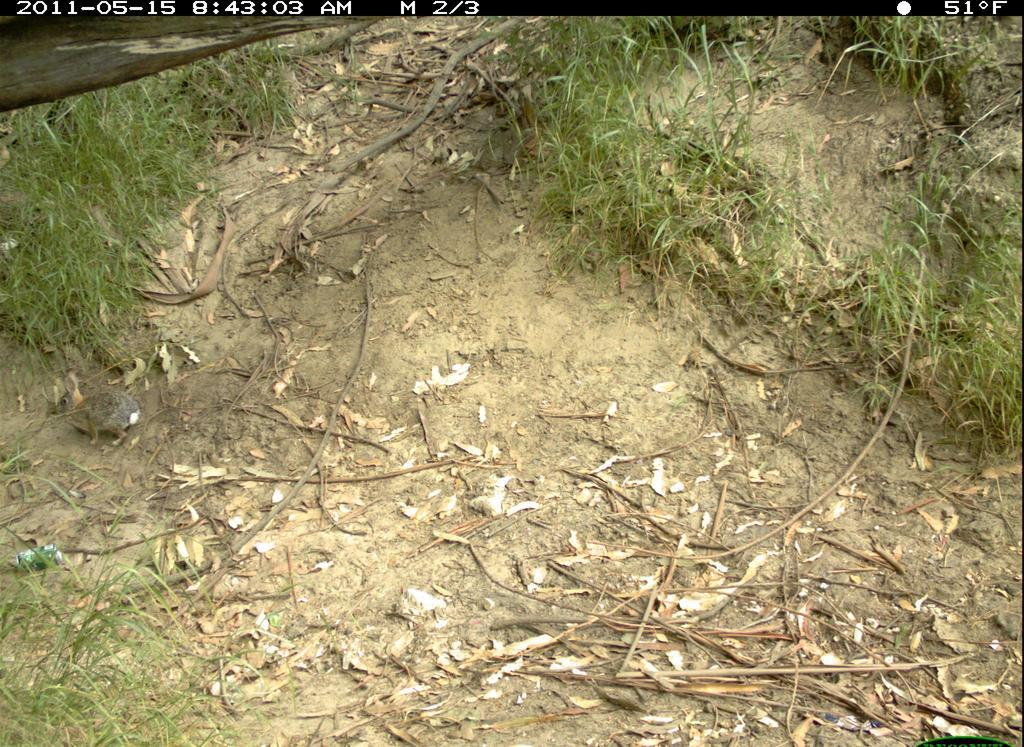rabbit: (49, 374, 155, 452)
